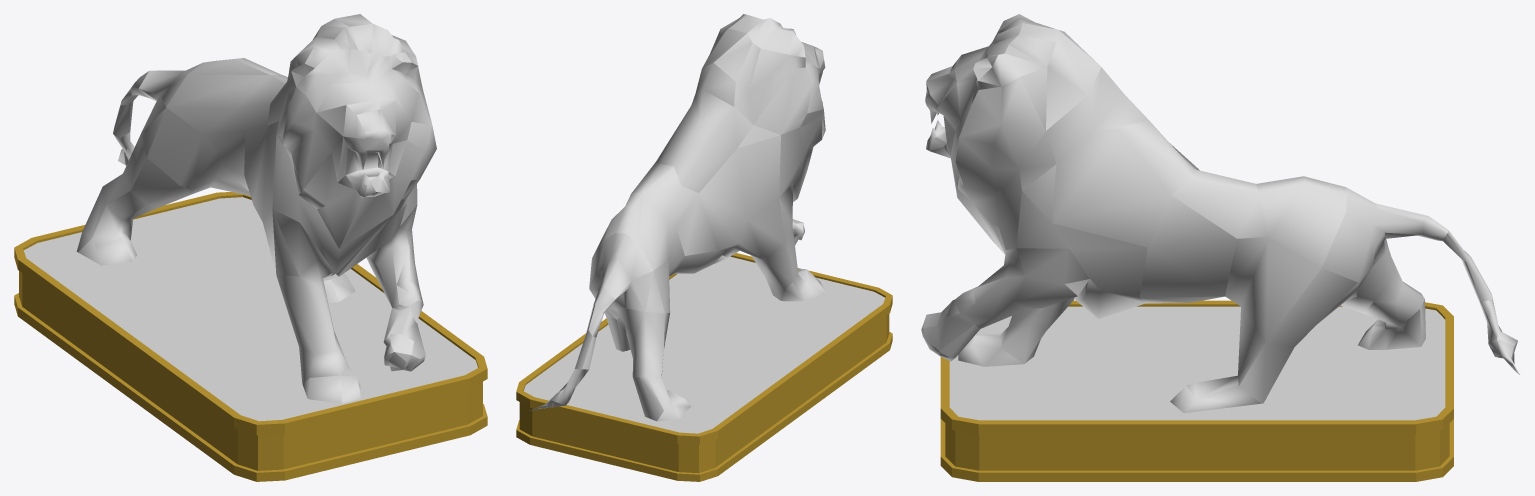
File: Lioin Statue_L.fbx
The picture shows the model from 3 angles, left to right: view 1: azimuth 30°, elevation 25°; view 2: azimuth 150°, elevation 25°; view 3: azimuth 270°, elevation 25°; orthographic projection. The views are drawn at different scales.
Parts seen in each view (by area): view 1: Cube, Lion Statue; view 2: Lion Statue, Cube; view 3: Lion Statue, Cube.
Part boxes in pixels (box(x1,y1,x2,y2)): Cube: box(14, 192, 487, 481); Lion Statue: box(76, 14, 436, 403); Lion Statue: box(529, 14, 826, 421); Cube: box(516, 253, 892, 481); Lion Statue: box(921, 14, 1520, 413); Cube: box(940, 300, 1453, 481).
Size of the model in its own units: 339 by 518 by 694.
